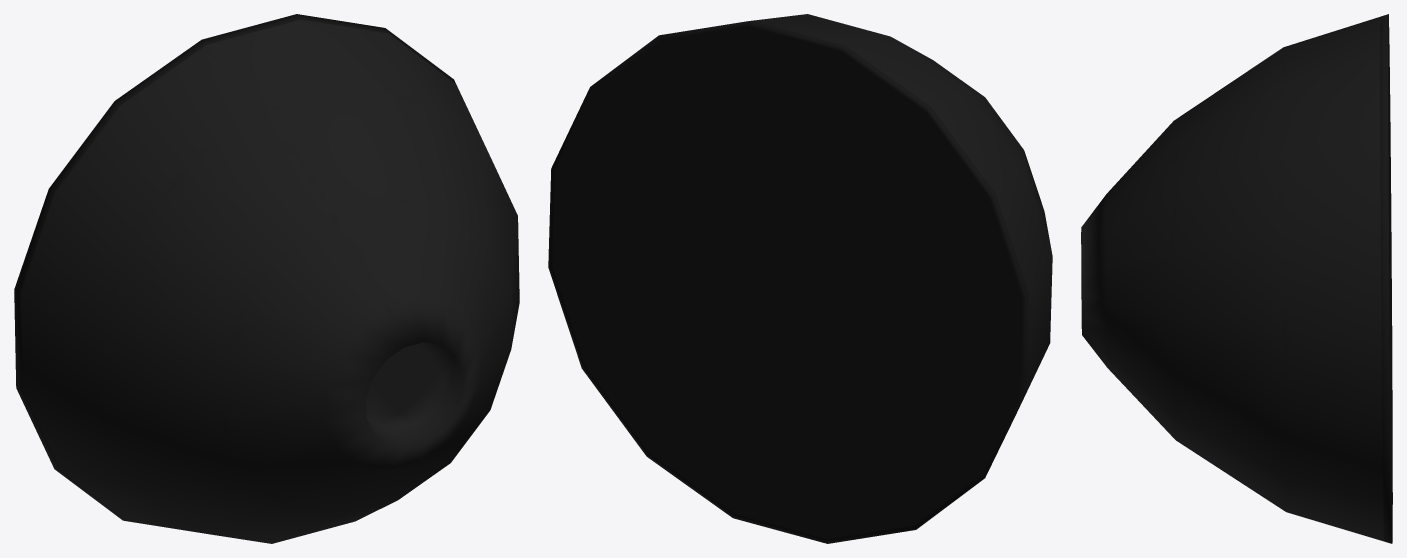
Rendered from s3d_bullet_9mm.fbx.
3 views of the same model, side by side, from view 1: azimuth 30°, elevation 25°; view 2: azimuth 150°, elevation 25°; view 3: azimuth 270°, elevation 25° (orthographic). The views are drawn at different scales.
Parts seen in each view (by area): view 1: s3d_bullet_9mm; view 2: s3d_bullet_9mm; view 3: s3d_bullet_9mm.
Boxes of the visible parts, box(x1,y1,x2,y2) form: s3d_bullet_9mm: box(14, 14, 519, 543); s3d_bullet_9mm: box(548, 14, 1052, 543); s3d_bullet_9mm: box(1081, 14, 1392, 543).
Size of the model in its own units: 0.8869 by 0.8868 by 0.5209.
